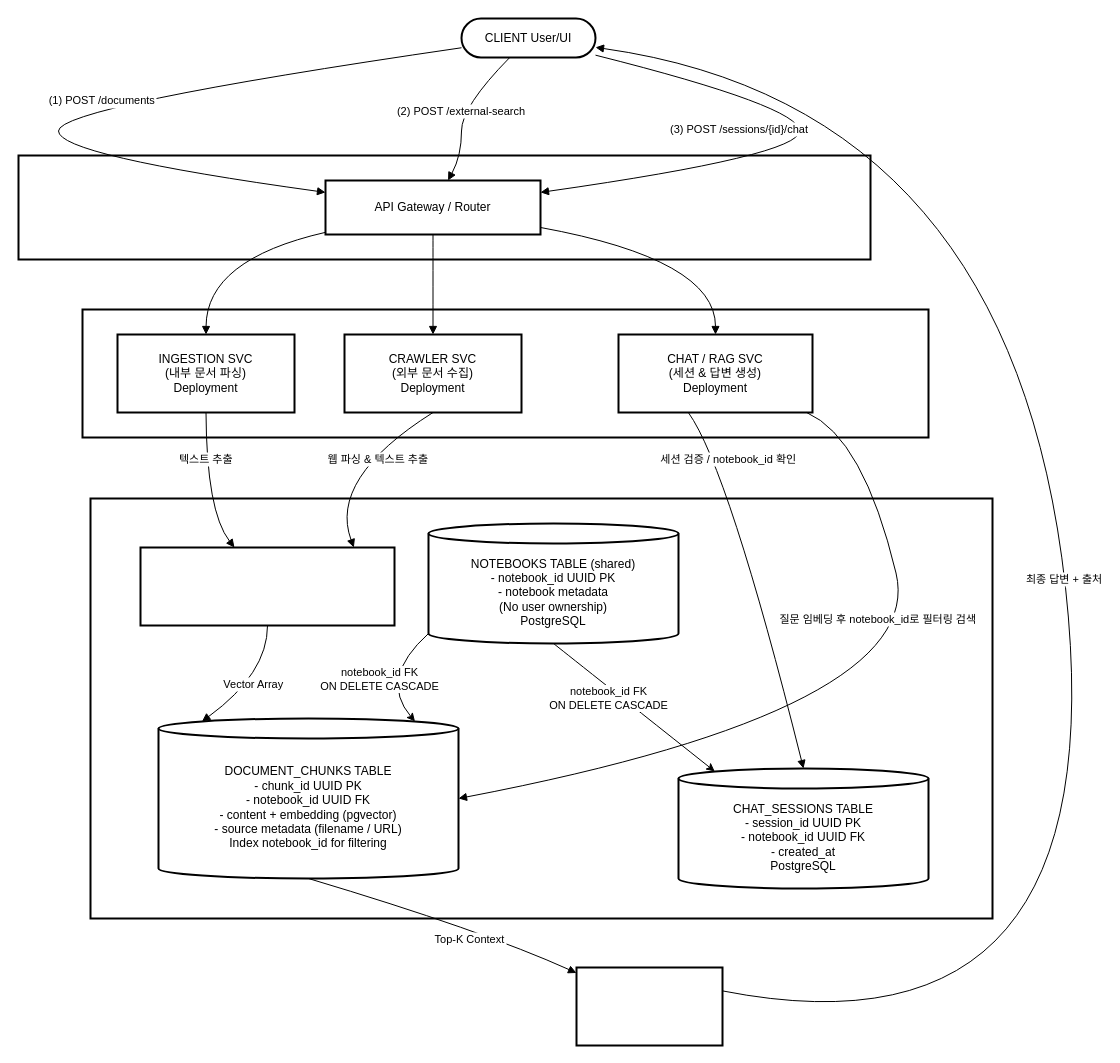
Some shapes in this 1120 by 1063 pixel diagram are drawn without their labels. Here are the shapes that lost their labels. From the top down, the box of each, then its label:
(81, 308, 929, 438): Microservices Layer
(139, 546, 395, 626): EMBEDDING PIPELINE (Gemini / Text Embedding)
(89, 497, 993, 919): Embedding & PostgreSQL Storage Layer (one StatefulSet + PVC)
(575, 966, 723, 1046): GEMINI API (LLM Model)
